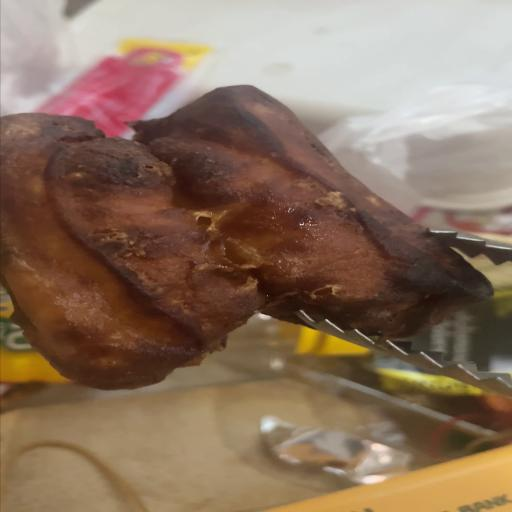street_burnt_defect: (1, 85, 493, 390)
